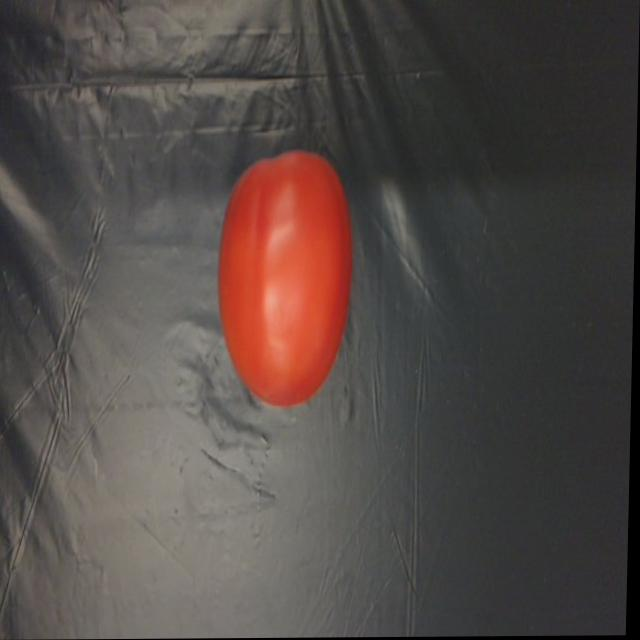kirmizi: (217, 147, 356, 416)
